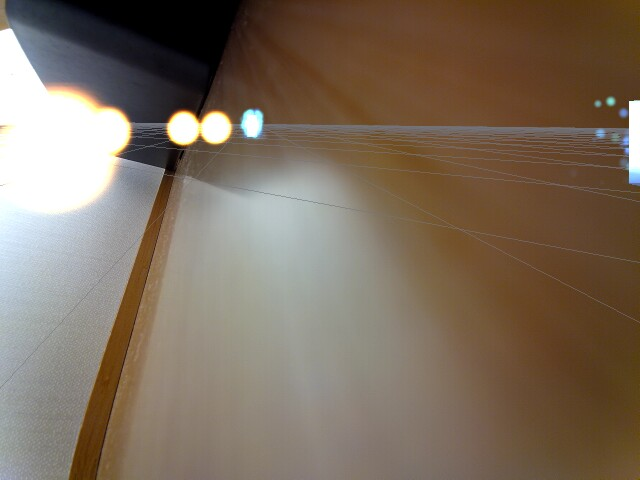fire: (6, 79, 132, 214), (201, 109, 237, 146), (165, 109, 202, 144)
